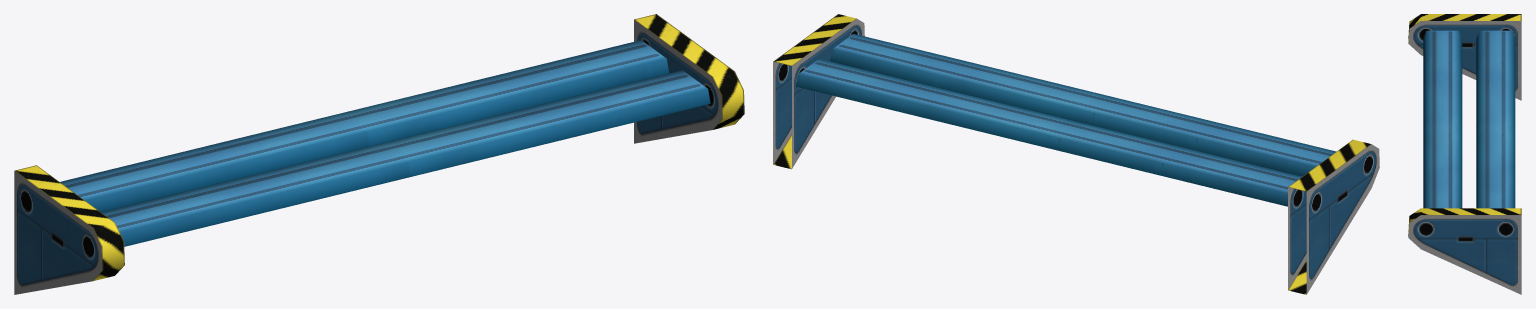
Rendered from Bench_Wall_01.FBX.
The picture shows the model from 3 angles, left to right: view 1: azimuth 30°, elevation 25°; view 2: azimuth 150°, elevation 25°; view 3: azimuth 270°, elevation 25°; orthographic projection. The views are drawn at different scales.
Parts seen in each view (by area): view 1: Bench_Wall_01; view 2: Bench_Wall_01; view 3: Bench_Wall_01.
Boxes of the visible parts, left/top/right/bottom form: Bench_Wall_01: left=14, top=14, right=744, bottom=294; Bench_Wall_01: left=773, top=14, right=1379, bottom=294; Bench_Wall_01: left=1408, top=14, right=1521, bottom=294.
Size of the model in its own units: 97.33 by 17.99 by 23.13.
